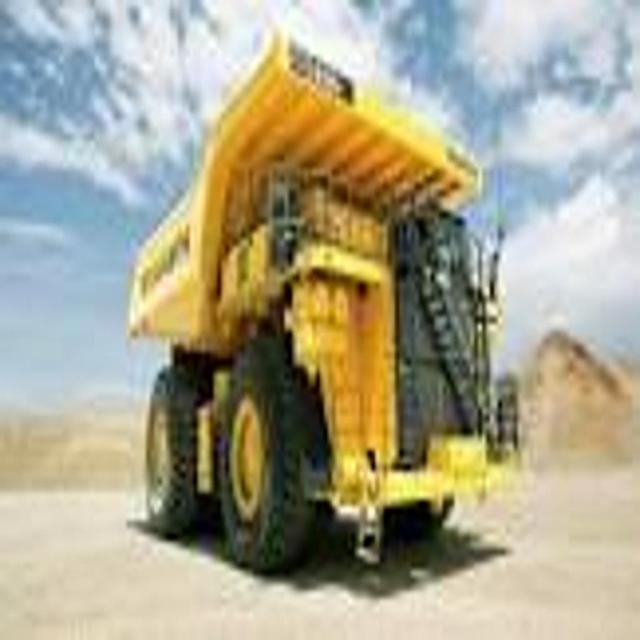dump_truck: (125, 12, 526, 594)
